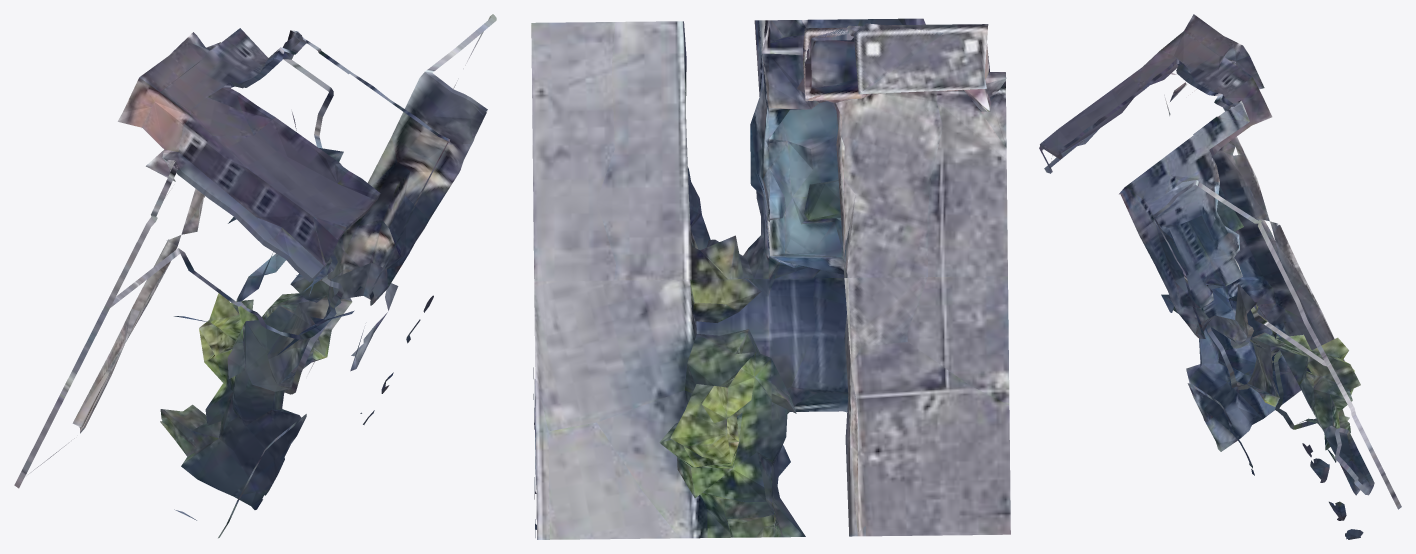
3 renders of one model, left to right at view 1: azimuth 30°, elevation 25°; view 2: azimuth 150°, elevation 25°; view 3: azimuth 270°, elevation 25°, orthographic. The views are drawn at different scales.
Bounding box in the file's own units: 42.18 × 42.89 × 35.
Materials: 2 (2 with a texture image).
